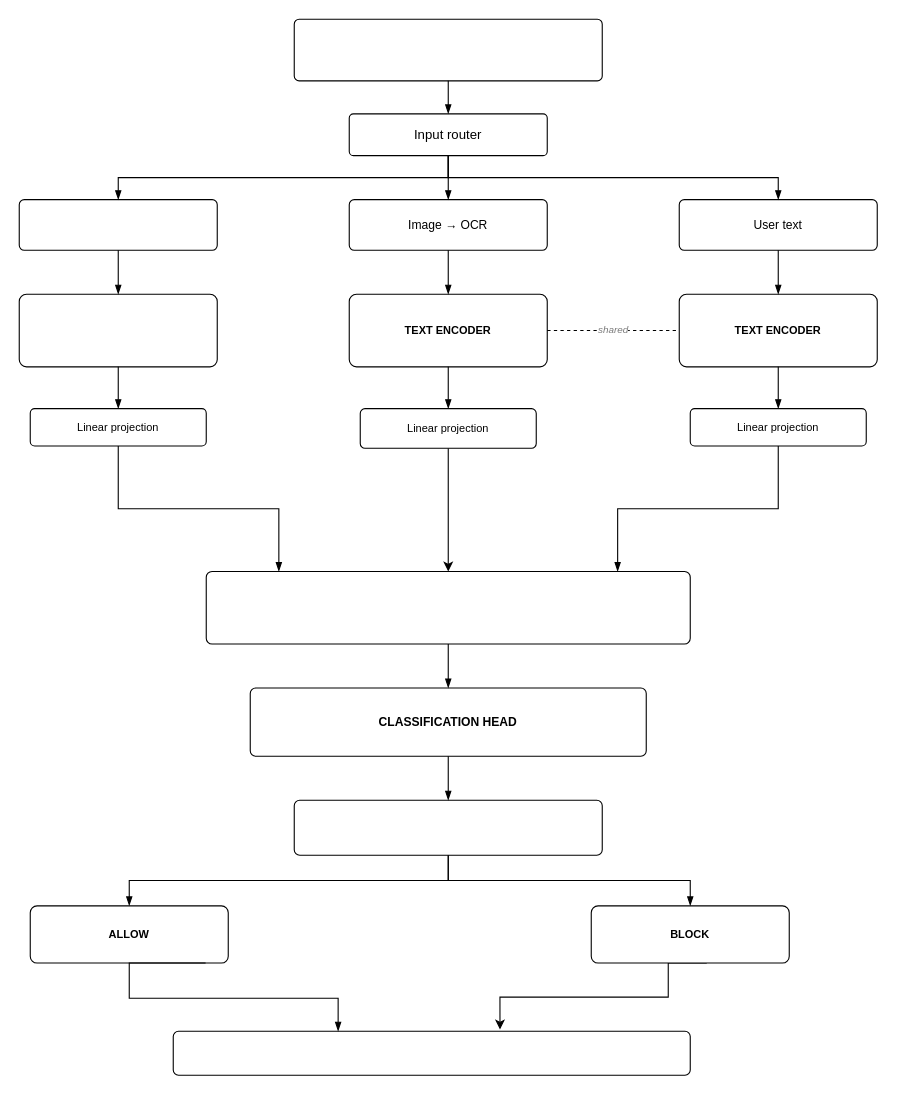
This 897x1095 diagram has some shape labels left out. The centre of each missing label's shape, as x and y in pixels:
CALIBRATED THRESHOLDS: point (447, 827)
FEATURE FUSION MODULE: point (447, 607)
PROTECTED LLM / VLM: point (431, 1052)
Raw image pixels: point (117, 224)
USER REQUEST text + image(s): point (447, 49)
VISION ENCODER: point (117, 330)
